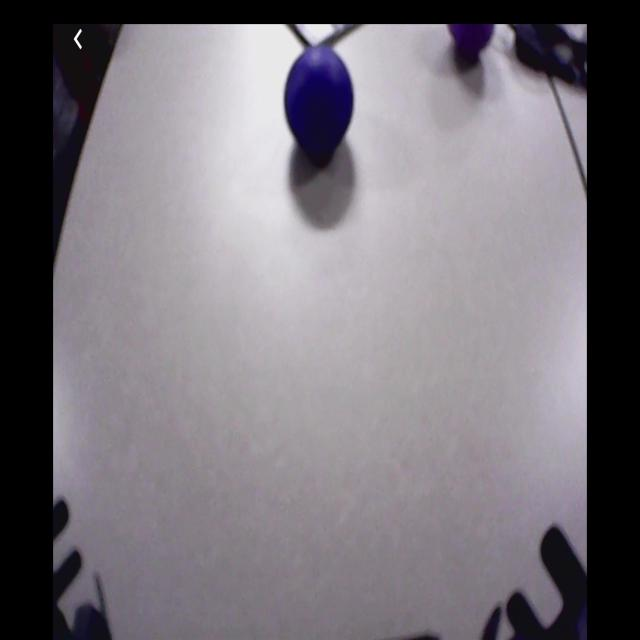ball: (285, 50, 355, 146), (448, 26, 496, 52)
